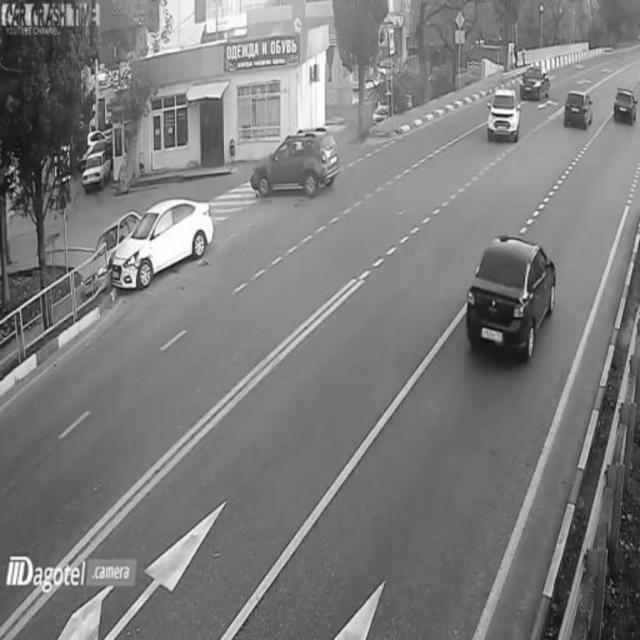accident: (83, 197, 211, 295)
vehicle: (469, 227, 557, 355), (248, 125, 339, 201), (486, 81, 522, 142), (78, 150, 115, 190), (519, 58, 553, 100), (561, 88, 595, 130), (611, 81, 640, 126)
